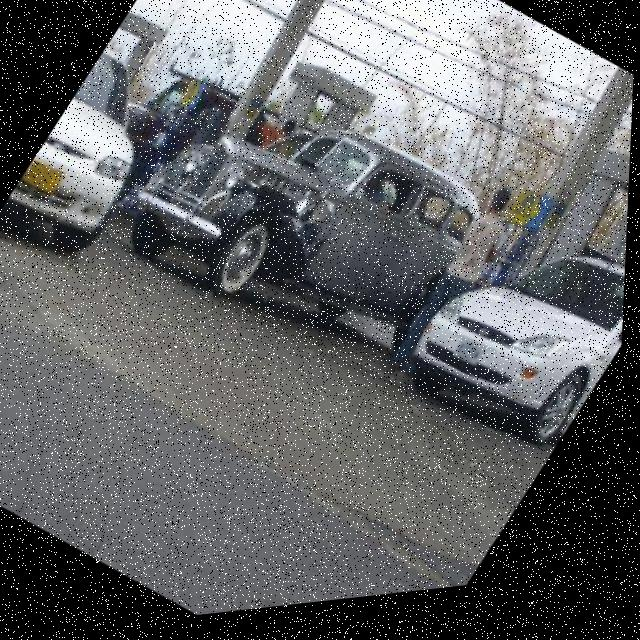license_plate: (22, 157, 66, 202), (453, 344, 490, 382)
